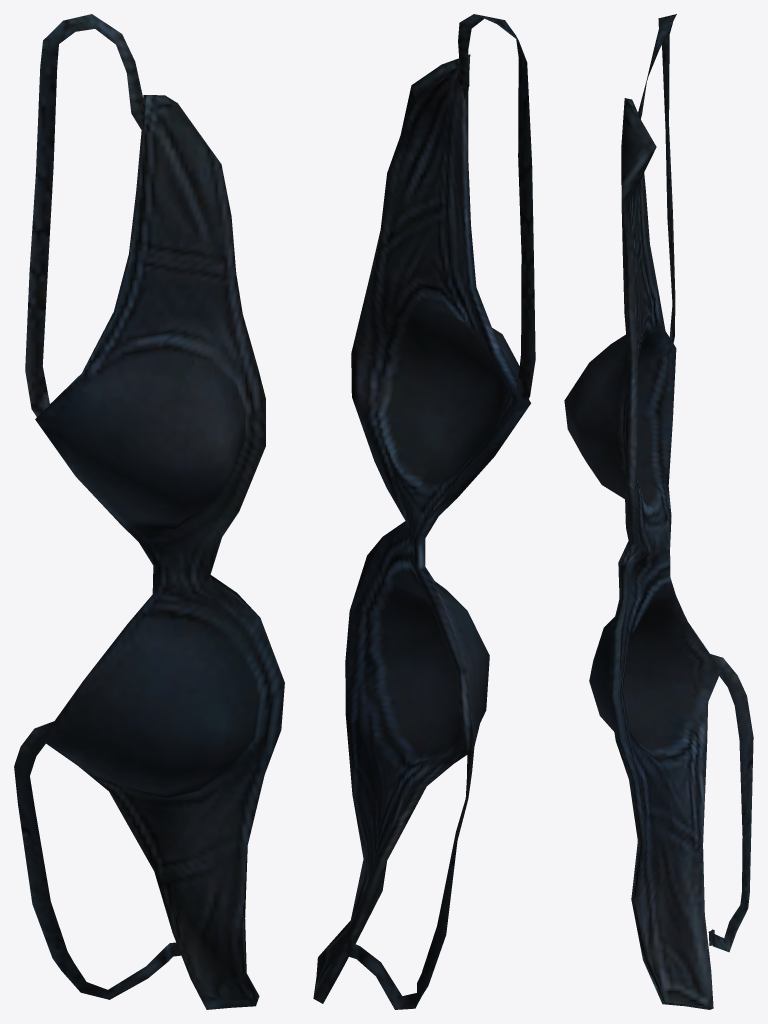
File: clothing_hanging_bra.dae
The picture shows the model from 3 angles, left to right: view 1: azimuth 30°, elevation 25°; view 2: azimuth 150°, elevation 25°; view 3: azimuth 270°, elevation 25°; orthographic projection. The views are drawn at different scales.
Visible parts, largest first — view 1: polySurface12; view 2: polySurface12; view 3: polySurface12.
Boxes of the visible parts, x1=… form: polySurface12: x1=14, y1=14, x2=284, y2=1009; polySurface12: x1=313, y1=14, x2=535, y2=1009; polySurface12: x1=564, y1=14, x2=753, y2=1009.
Bounding box in the file's own units: 0.1672 × 0.7254 × 0.134.
